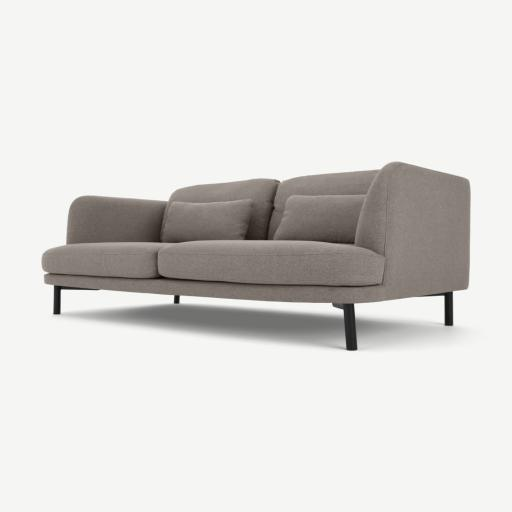back_cushion: (161, 171, 376, 243)
base: (45, 274, 384, 303)
left_arm: (356, 162, 470, 299)
legs: (333, 304, 357, 350), (53, 286, 91, 314), (421, 292, 452, 326), (174, 296, 179, 304)
right_arm: (67, 196, 166, 244)
seat_cushion: (43, 240, 384, 286)
two-seater: (0, 0, 511, 512)
